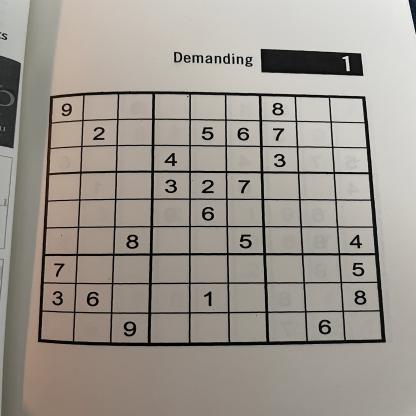sudoku: (32, 85, 392, 351)
